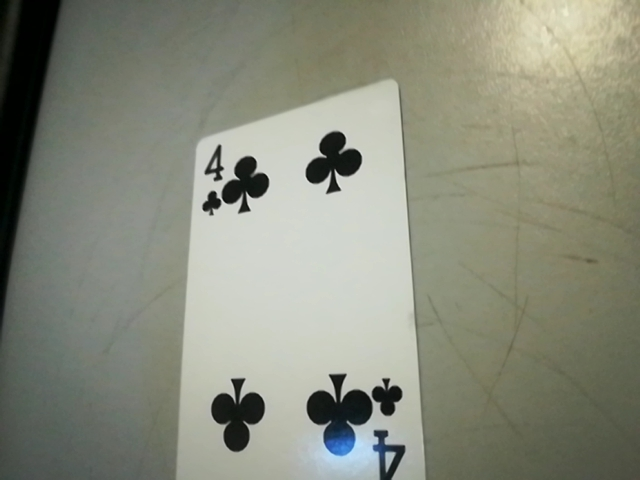mh 4: (364, 369, 419, 480), (191, 141, 236, 221)
